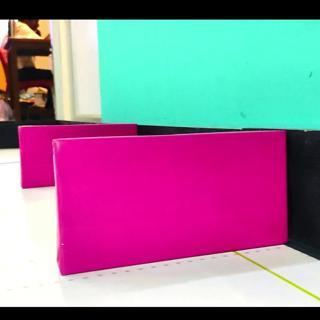xparking: (63, 144, 286, 276), (20, 128, 54, 188)
